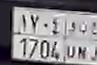0: (40, 16, 50, 60)
1: (20, 13, 27, 58)
4: (51, 16, 61, 64)
7: (29, 15, 39, 58)
N: (77, 19, 87, 64)
U: (67, 19, 76, 61)
